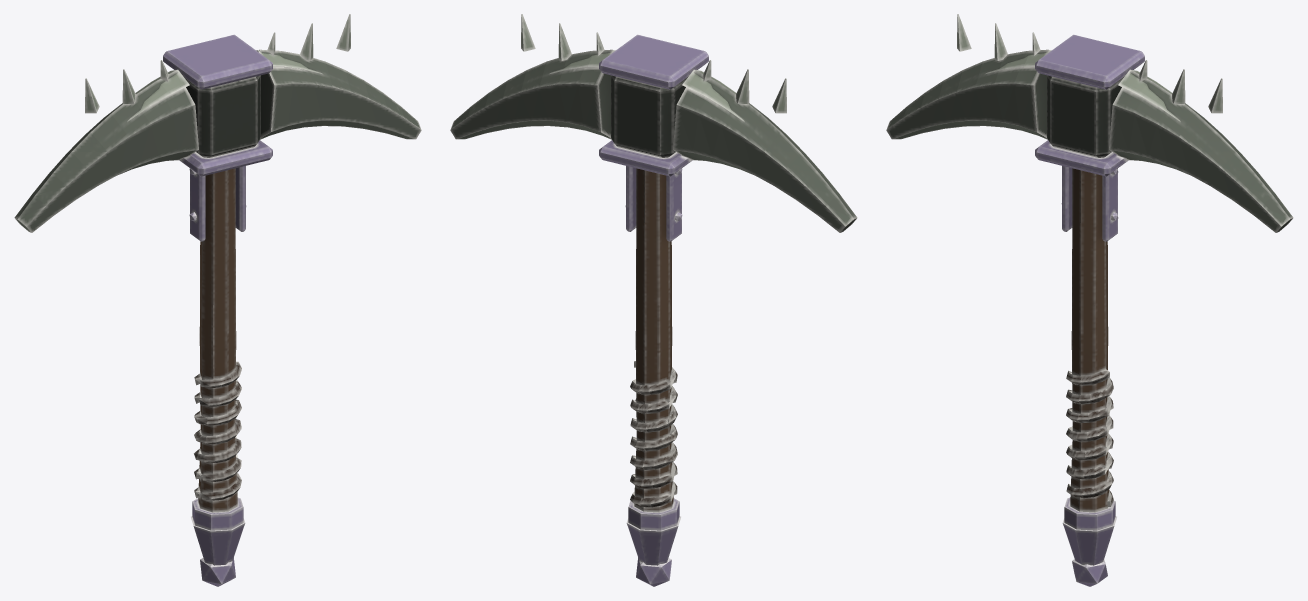
File: BogIronPickaxe.glb
3 renders of one model, left to right at view 1: azimuth 30°, elevation 25°; view 2: azimuth 150°, elevation 25°; view 3: azimuth 330°, elevation 25°, orthographic.
Parts seen in each view (by area): view 1: Body__Tex; view 2: Body__Tex; view 3: Body__Tex.
Part boxes in pixels (bbox=[...]): Body__Tex: bbox=[14, 14, 421, 586]; Body__Tex: bbox=[450, 14, 857, 586]; Body__Tex: bbox=[886, 14, 1293, 586].
Bounding box in the file's own units: 3.19 × 4.11 × 0.54.
1 material, 1 textured.
